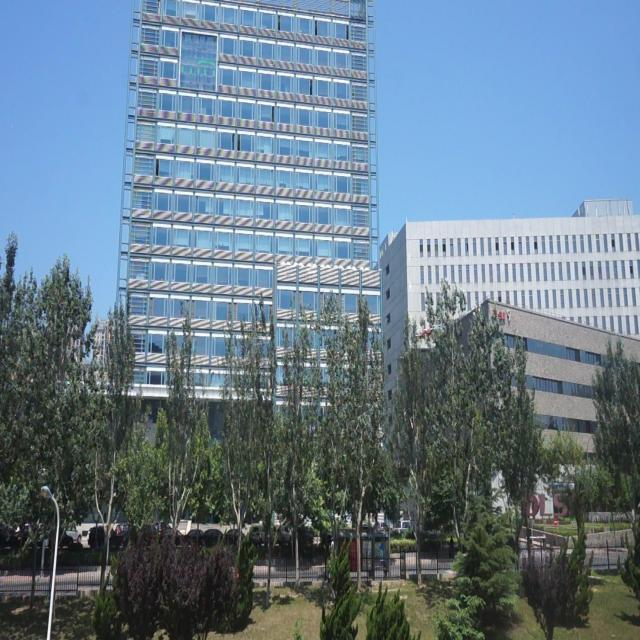UAV: (415, 324, 441, 342)
